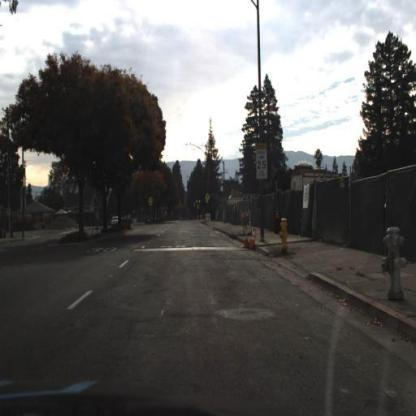car: (110, 215, 121, 226)
